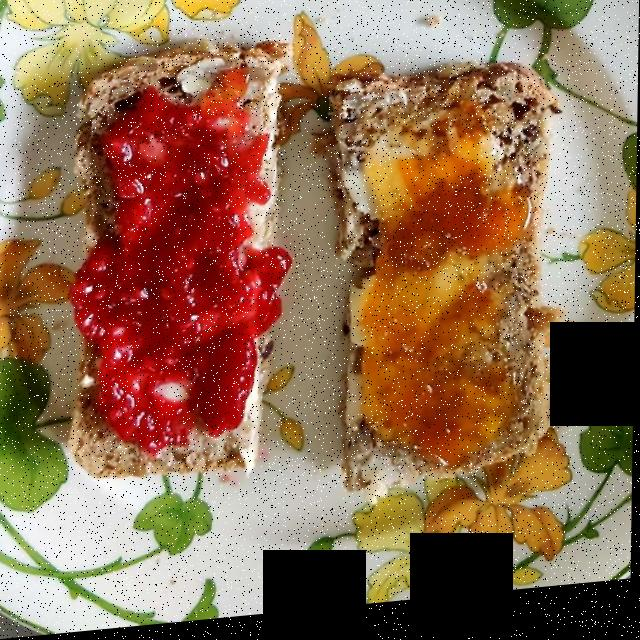bread-wholemeal: (74, 56, 561, 491)
butter: (344, 155, 468, 383)
jam: (77, 89, 518, 468)
